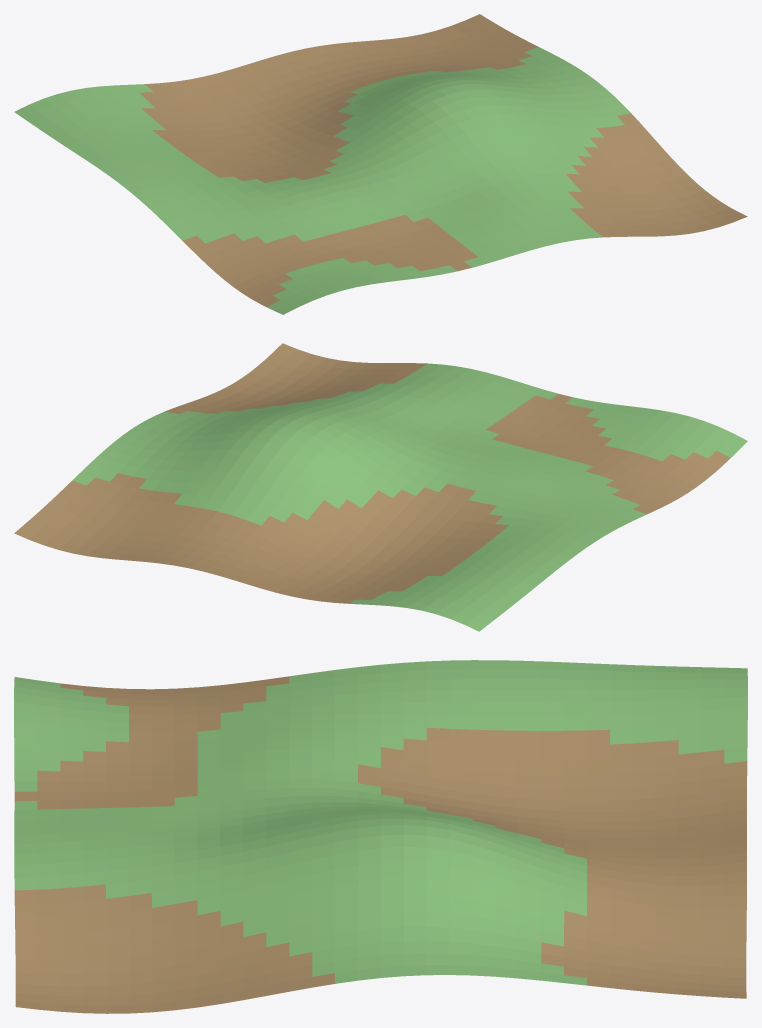
Rendered from terrain_patch.glb.
3 renders of one model, top to bottom at view 1: azimuth 30°, elevation 25°; view 2: azimuth 150°, elevation 25°; view 3: azimuth 270°, elevation 25°, orthographic. The views are drawn at different scales.
Parts seen in each view (by area): view 1: TerrainPatch; view 2: TerrainPatch; view 3: TerrainPatch.
Part boxes in pixels (x1,y1,x2,y2): TerrainPatch: [14, 14, 747, 314]; TerrainPatch: [14, 343, 747, 631]; TerrainPatch: [14, 660, 747, 1013].
Size of the model in its own units: 80.05 by 10.32 by 80.07.
